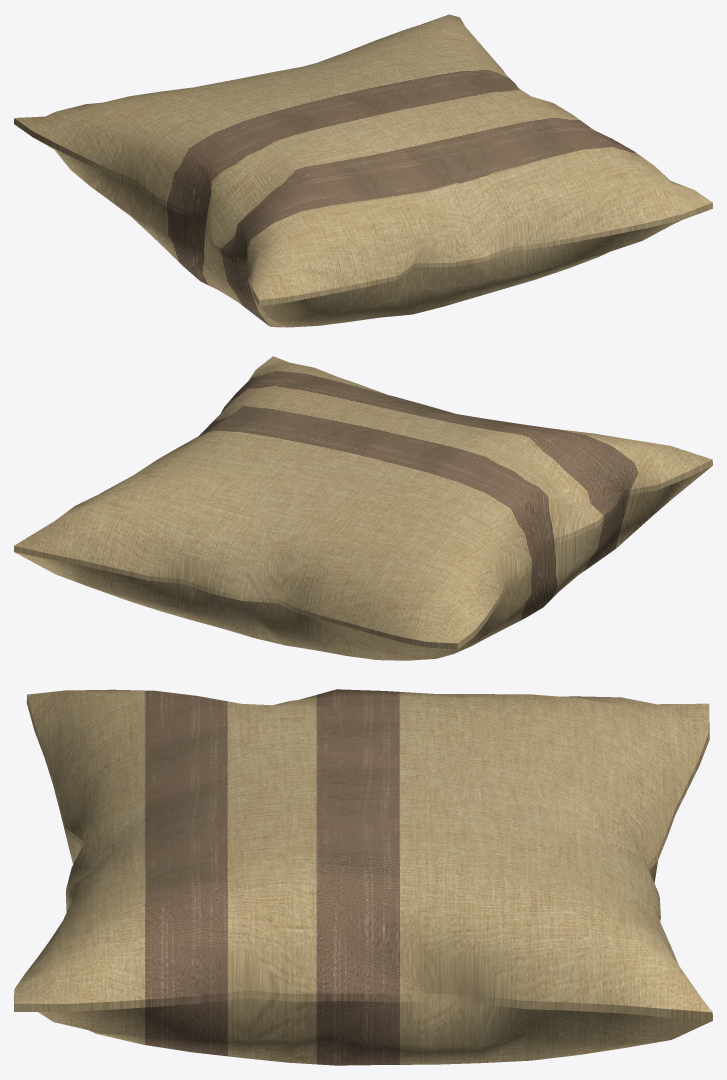
The model's file is Pillow 2.FBX.
3 renders of one model, top to bottom at view 1: azimuth 30°, elevation 25°; view 2: azimuth 150°, elevation 25°; view 3: azimuth 270°, elevation 25°, orthographic. The views are drawn at different scales.
Visible parts, largest first — view 1: pillow 2; view 2: pillow 2; view 3: pillow 2.
Part boxes in pixels (x1,y1,x2,y2): pillow 2: (14, 14, 712, 327); pillow 2: (14, 356, 712, 660); pillow 2: (14, 689, 712, 1065).
Size of the model in its own units: 38.96 by 11.56 by 38.31.
Materials: 1 (1 with a texture image).
